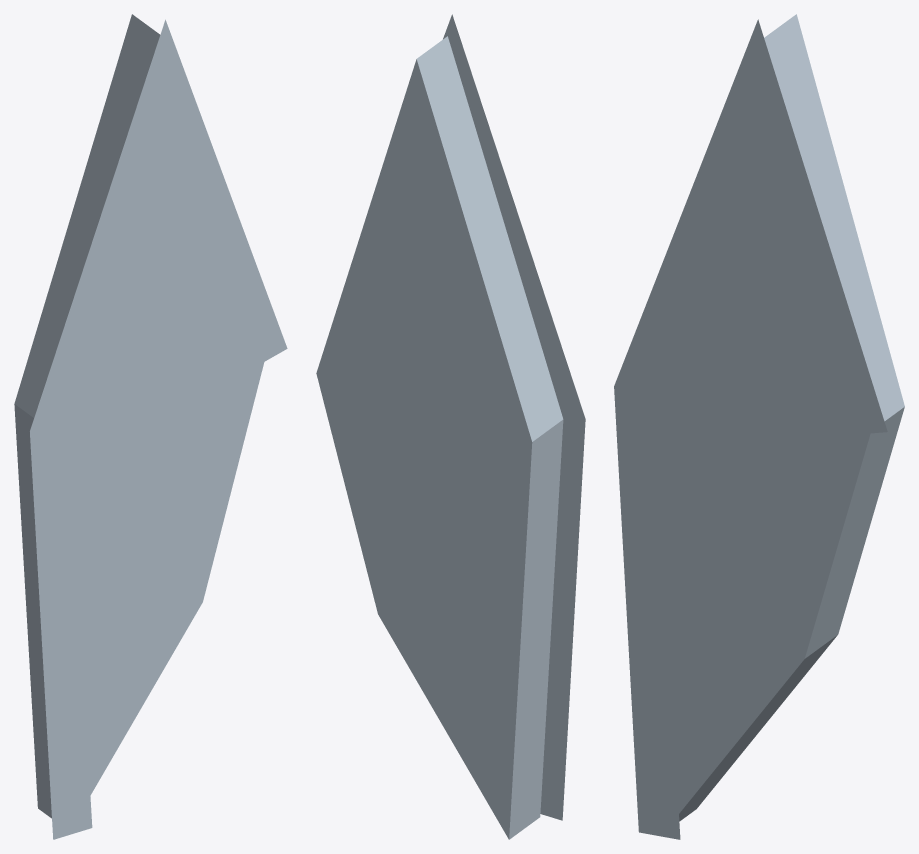
The model's file is 2060_SpinningBlades_Overall_Projectile.fbx.
3 renders of one model, left to right at view 1: azimuth 30°, elevation 25°; view 2: azimuth 150°, elevation 25°; view 3: azimuth 330°, elevation 25°, orthographic. The views are drawn at different scales.
Visible parts, largest first — view 1: PART_PyroAgentDarkBlade, PART_PyroAgentHotEdge; view 2: PART_PyroAgentDarkBlade, PART_PyroAgentHotEdge; view 3: PART_PyroAgentDarkBlade, PART_PyroAgentHotEdge.
Part boxes in pixels (x1,y1,x2,y2): PART_PyroAgentDarkBlade: [14, 14, 264, 818]; PART_PyroAgentHotEdge: [30, 19, 287, 839]; PART_PyroAgentDarkBlade: [316, 36, 563, 839]; PART_PyroAgentHotEdge: [443, 14, 585, 820]; PART_PyroAgentDarkBlade: [655, 14, 904, 821]; PART_PyroAgentHotEdge: [614, 19, 887, 839].
Bounding box in the file's own units: 32.87 × 96.64 × 7.7.
